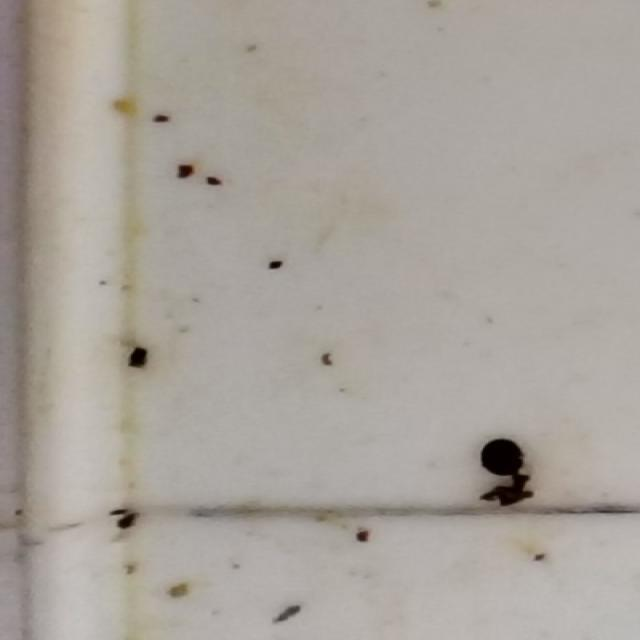varroa: (480, 436, 528, 480)
